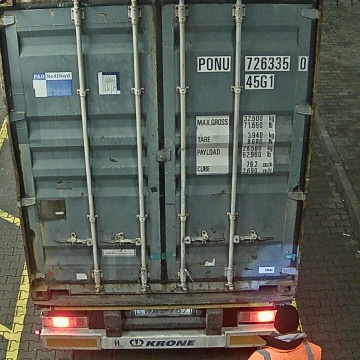serial_id: (198, 56, 306, 70)
